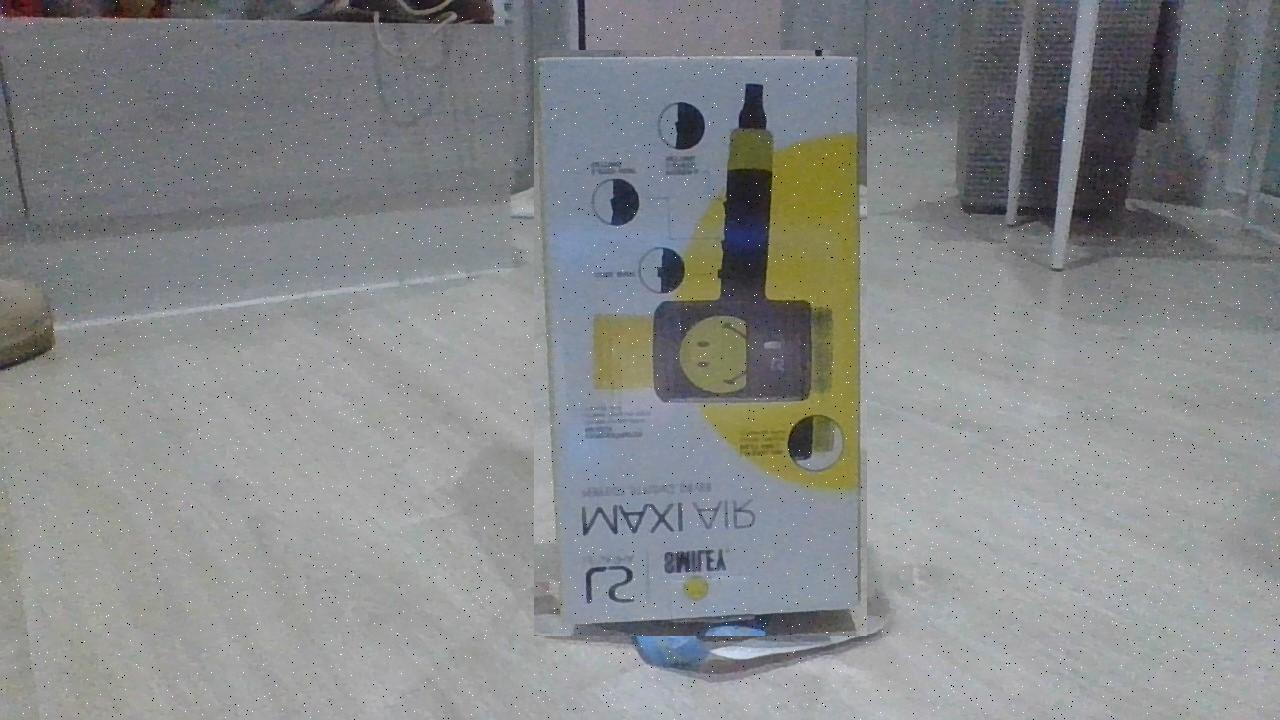Dryer: (534, 50, 867, 636)
